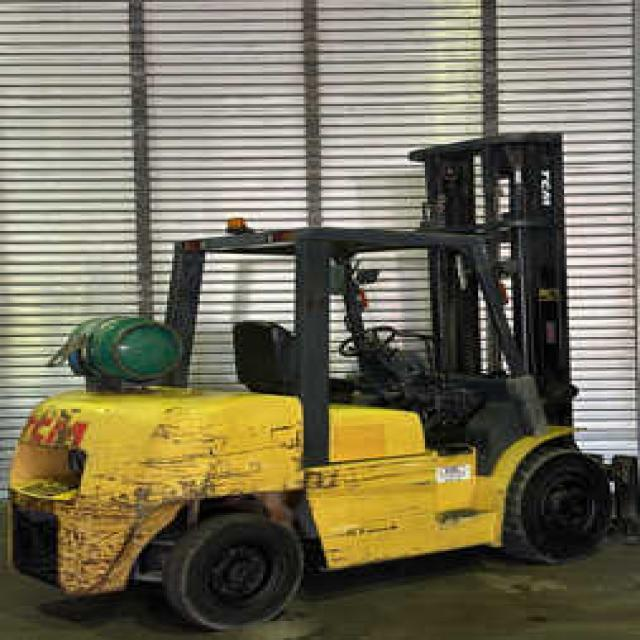forklift: (5, 114, 612, 633)
